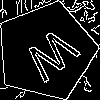W: (21, 26, 88, 91)
